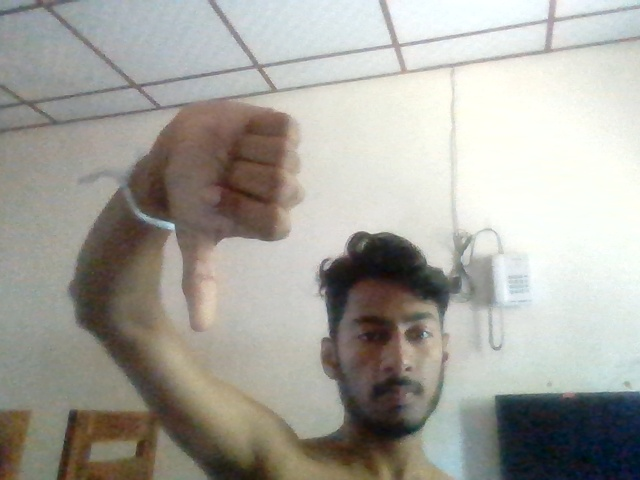ThumbsDown: (166, 93, 305, 336)
